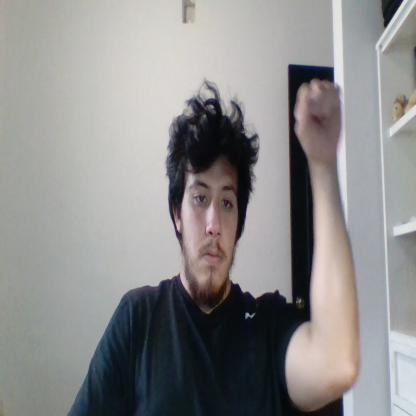S: (294, 80, 342, 156)
